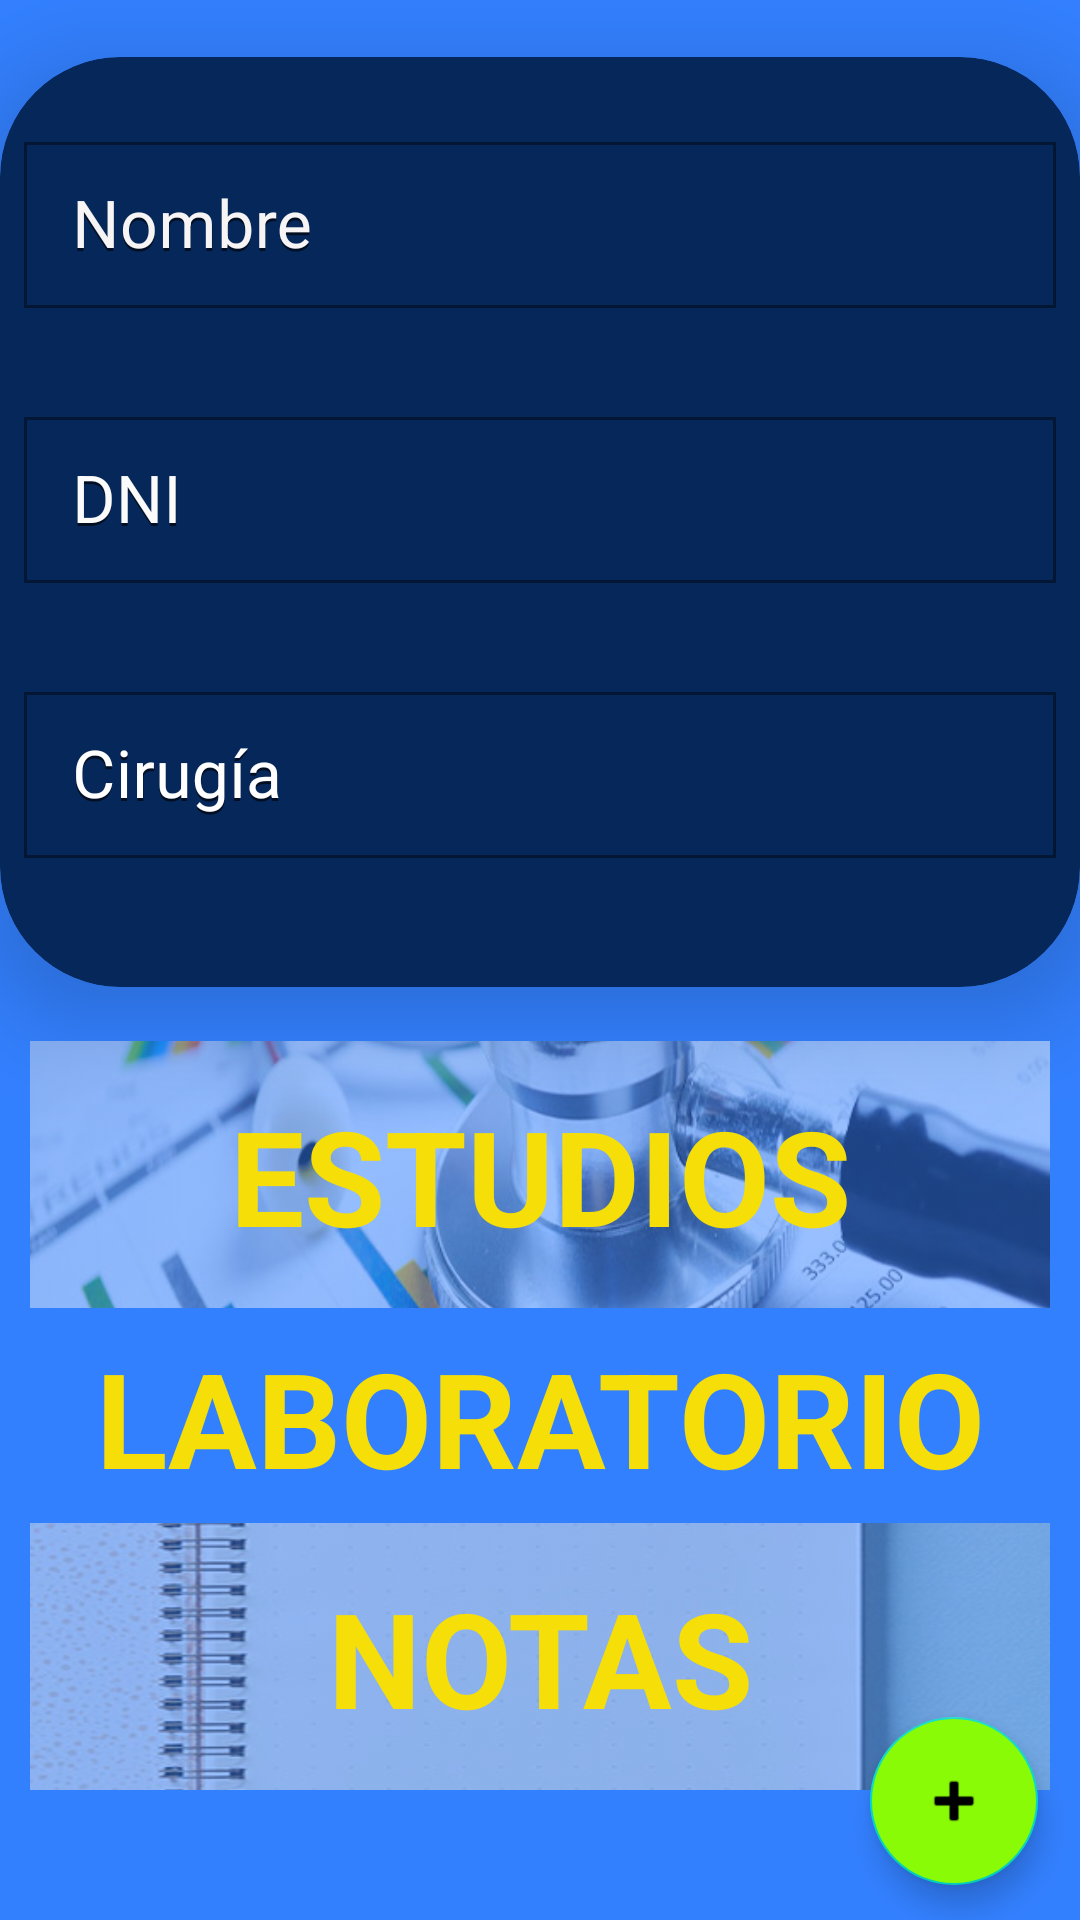

Screen size 1080w x 1920h. Icon name, then its center in pixels as point (x, y):
add: point (954, 1801)
